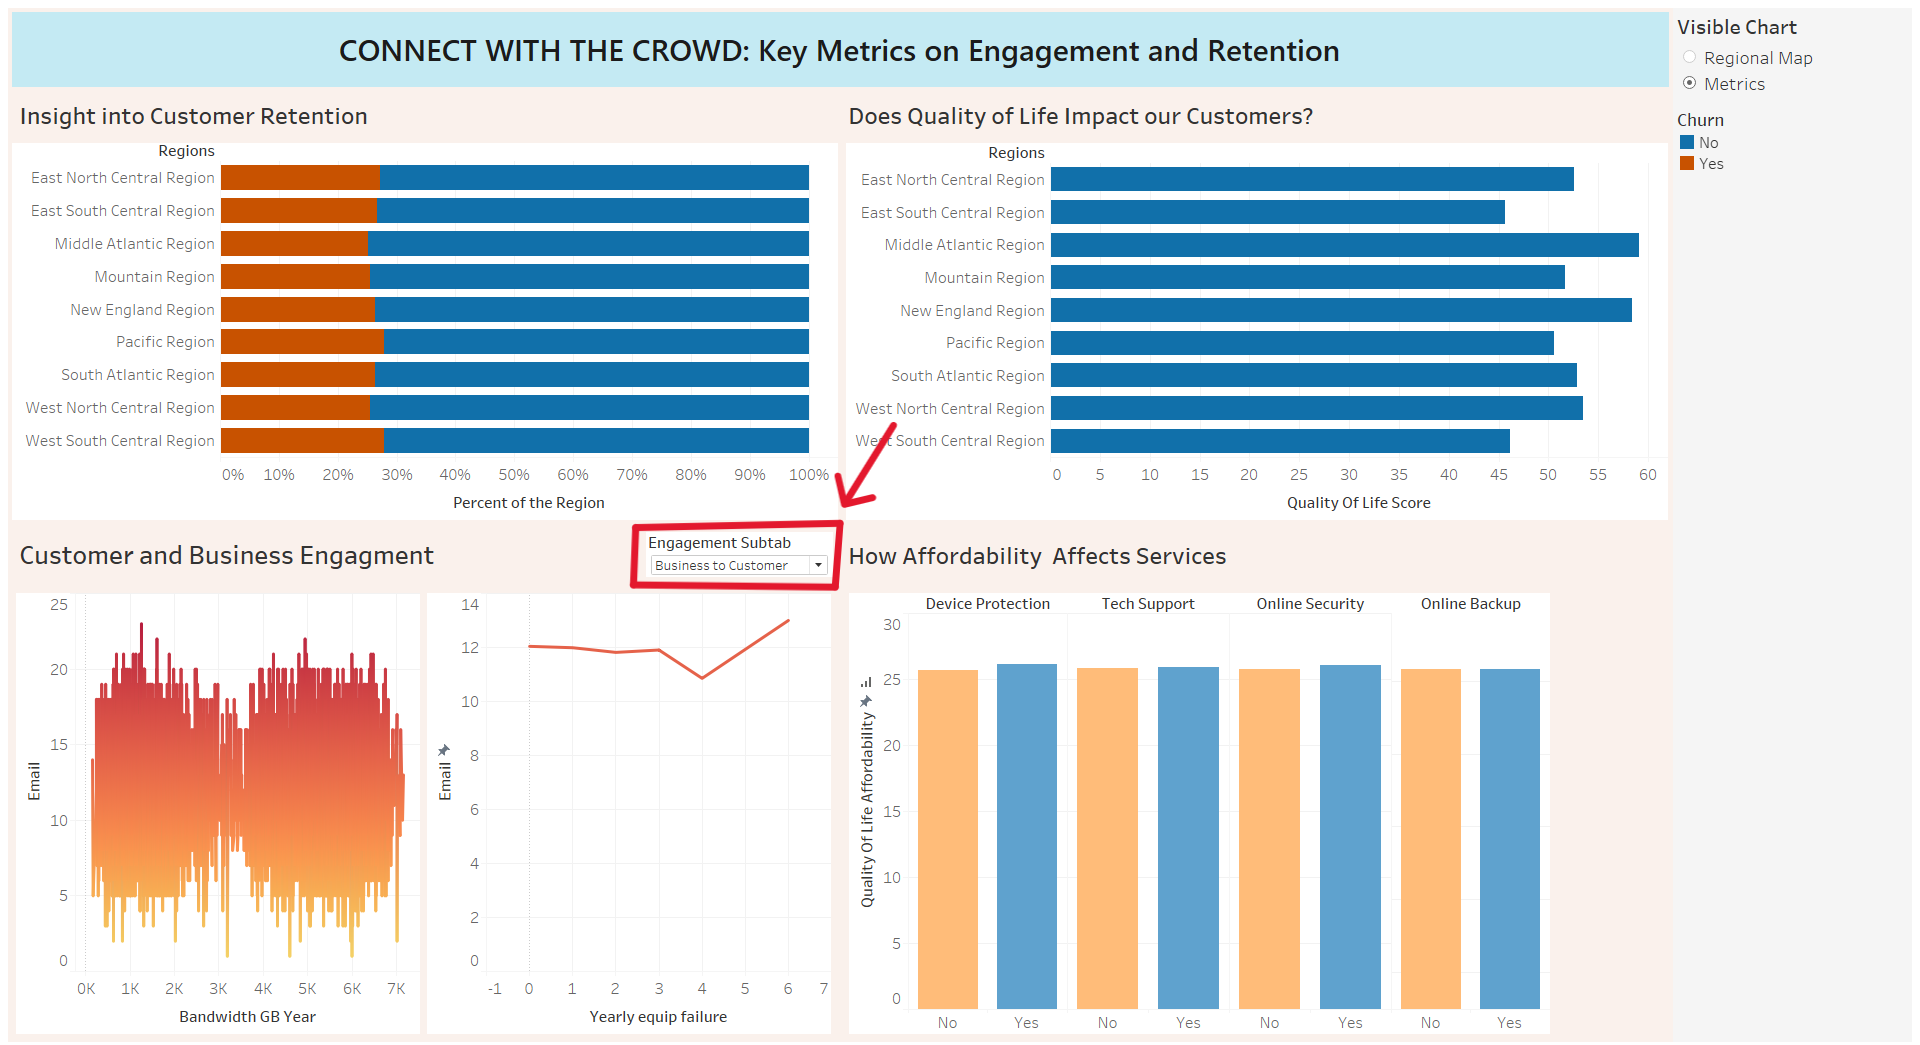

The dashboard page shown, as its layout file describes it:
{"tool":"tableau","page":{"name":"Dashboard","canvas":[1000,1000],"units":"permille","ordinal":0},"visuals":[{"type":"parameter","param":"[Parameters].[Parameter 2]","box":[870.6,9.3,124.6,110.3]},{"type":"worksheet","title":"Dash Title","mark":"Automatic","box":[7.2,13.9,860.9,69.3]},{"type":"worksheet","title":"Regions","mark":"Multipolygon","box":[4.8,87.9,865.7,410.8]},{"type":"text","box":[7.2,92.9,430.9,46.5]},{"type":"text","box":[438.1,92.9,430.3,46.5]},{"type":"legend","title":"Regions","param":"[federated.07l10p31xe8tpb171ylyb1hwssl0].[cnt:Customer_id:qk]","box":[870.6,119.6,124.6,88.3]},{"type":"legend","title":"Regional Churn","param":"[federated.07l10p31xe8tpb171ylyb1hwssl0].[none:Churn:nk]","box":[870.6,119.6,124.6,87.1]},{"type":"worksheet","title":"Regional Churn","mark":"Automatic","box":[4.8,143.7,434.1,355]},{"type":"worksheet","title":"Regional QoL","mark":"Automatic","cols":["QualityOfLifeTotalScore"],"box":[438.9,143.7,431.7,355]},{"type":"text","box":[438.1,498.3,432.7,70.9]},{"type":"text","box":[7.2,502.9,310.8,61.6]},{"type":"text","box":[7.2,502.9,140.6,61.6]},{"type":"blank","box":[147.8,502.9,182.9,61.6]},{"type":"parameter","param":"[Parameters].[Parameter 5]","box":[318.1,502.9,117.7,61.6]},{"type":"parameter","param":"[Parameters].[Parameter 3]","box":[330.7,502.9,105,61.6]},{"type":"text","box":[440.6,502.9,156.9,61.6]},{"type":"blank","box":[597.5,502.9,169.6,61.6]},{"type":"parameter","param":"[Parameters].[Parameter 4]","box":[767.1,502.9,101.4,61.6]},{"type":"worksheet","title":"Gender","mark":"Pie","box":[439.6,561,429.2,313.3]},{"type":"worksheet","title":"Income","mark":"Automatic","rows":["Income"],"cols":["Income (bin)"],"box":[4.8,569.1,433.3,1.2]},{"type":"worksheet","title":"Age","mark":"Automatic","rows":["Age"],"cols":["Age (bin)"],"box":[4.8,570.3,433.3,419.3]},{"type":"worksheet","title":"Email vs Bandwidth","mark":"Automatic","rows":["Email"],"cols":["Bandwidth_GB_Year"],"box":[7.2,573.8,213.6,412.3]},{"type":"worksheet","title":"Email vs Failure","mark":"Automatic","rows":["Email"],"cols":["Yearly_equip_failure"],"box":[220.9,573.8,213.6,412.3]},{"type":"worksheet","title":"Contact vs Bandwidth","mark":"Automatic","rows":["Contacts"],"cols":["Bandwidth_GB_Year"],"box":[434.5,573.8,0.6,412.3]},{"type":"worksheet","title":"Contact vs Failure","mark":"Automatic","rows":["Contacts"],"cols":["Yearly_equip_failure"],"box":[435.1,573.8,0.6,412.3]},{"type":"worksheet","title":"Device Protection","mark":"Automatic","rows":["QualityOfLifeAffordability"],"cols":["DeviceProtection"],"box":[440.6,573.8,133.7,412.3]},{"type":"worksheet","title":"Pop. Dens.","mark":"Pie","box":[440.6,573.8,427.9,382.1]},{"type":"worksheet","title":"Tech Support","mark":"Automatic","rows":["QualityOfLifeAffordability"],"cols":["TechSupport"],"box":[574.2,573.8,98.1,412.3]},{"type":"worksheet","title":"Online Security","mark":"Automatic","rows":["QualityOfLifeAffordability"],"cols":["OnlineSecurity"],"box":[672.3,573.8,98.1,412.3]},{"type":"worksheet","title":"Online Backup","mark":"Automatic","rows":["QualityOfLifeAffordability"],"cols":["OnlineBackup"],"box":[770.3,573.8,98.1,412.3]},{"type":"worksheet","title":"Martial Status","mark":"Pie","box":[440.6,574.9,427.9,382.1]},{"type":"worksheet","title":"Monthly Charge","mark":"Automatic","rows":["MonthlyCharge"],"cols":["Monthly Charge (bin)"],"box":[4.8,989.6,433.3,1.2]}]}

Visuals, with their boxes on the dashboard's canvas, which has no fixed pixel size, in thousandths of its width and height (x1, y1, x2, y2). These are canvas units, not pixel positions in the 1920x1045 screenshot, which may show the page scaled, cropped or inside an application window:
parameter: bbox=[871, 9, 995, 120]
"Dash Title" worksheet: bbox=[7, 14, 868, 83]
"Regions" worksheet (Multipolygon marks): bbox=[5, 88, 870, 499]
text: bbox=[7, 93, 438, 139]
text: bbox=[438, 93, 868, 139]
"Regions" legend: bbox=[871, 120, 995, 208]
"Regional Churn" legend: bbox=[871, 120, 995, 207]
"Regional Churn" worksheet: bbox=[5, 144, 439, 499]
"Regional QoL" worksheet: bbox=[439, 144, 871, 499]
text: bbox=[438, 498, 871, 569]
text: bbox=[7, 503, 318, 564]
text: bbox=[7, 503, 148, 564]
blank: bbox=[148, 503, 331, 564]
parameter: bbox=[318, 503, 436, 564]
parameter: bbox=[331, 503, 436, 564]
text: bbox=[441, 503, 598, 564]
blank: bbox=[598, 503, 767, 564]
parameter: bbox=[767, 503, 868, 564]
"Gender" worksheet (Pie marks): bbox=[440, 561, 869, 874]
"Income" worksheet: bbox=[5, 569, 438, 570]
"Age" worksheet: bbox=[5, 570, 438, 990]
"Email vs Bandwidth" worksheet: bbox=[7, 574, 221, 986]
"Email vs Failure" worksheet: bbox=[221, 574, 434, 986]
"Contact vs Bandwidth" worksheet: bbox=[434, 574, 435, 986]
"Contact vs Failure" worksheet: bbox=[435, 574, 436, 986]
"Device Protection" worksheet: bbox=[441, 574, 574, 986]
"Pop. Dens." worksheet (Pie marks): bbox=[441, 574, 868, 956]
"Tech Support" worksheet: bbox=[574, 574, 672, 986]
"Online Security" worksheet: bbox=[672, 574, 770, 986]
"Online Backup" worksheet: bbox=[770, 574, 868, 986]
"Martial Status" worksheet (Pie marks): bbox=[441, 575, 868, 957]
"Monthly Charge" worksheet: bbox=[5, 990, 438, 991]
